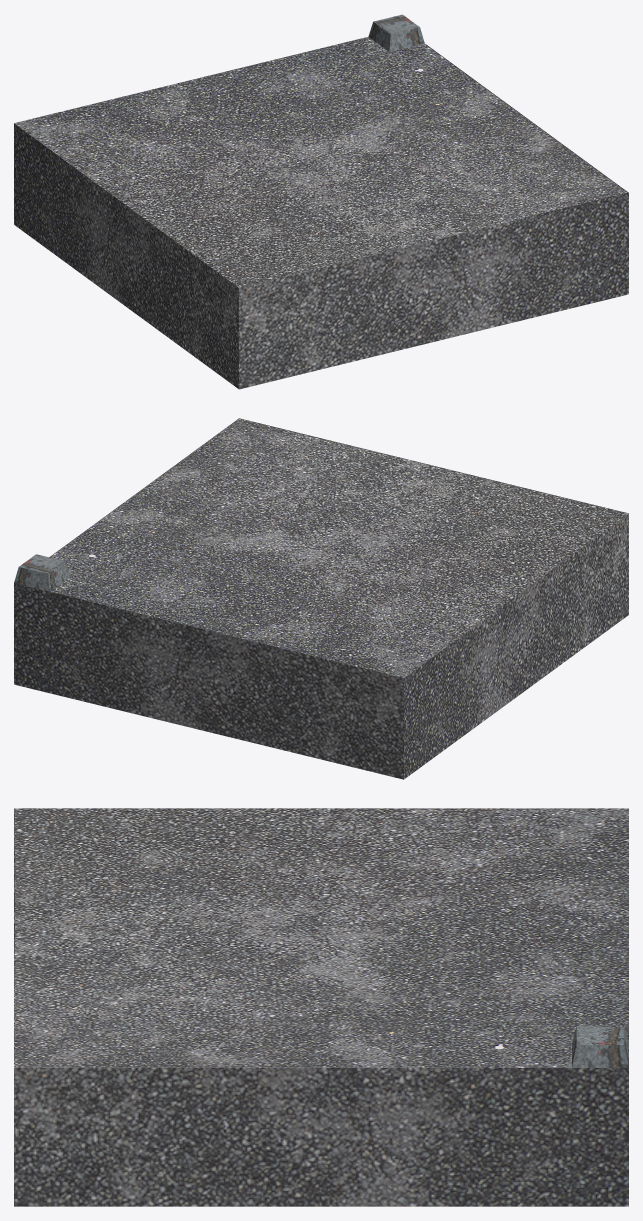
The model's file is sidewalk_corner.fbx.
The picture shows the model from 3 angles, top to bottom: view 1: azimuth 30°, elevation 25°; view 2: azimuth 150°, elevation 25°; view 3: azimuth 270°, elevation 25°; orthographic projection. The views are drawn at different scales.
Parts seen in each view (by area): view 1: trottoir_corner.002; view 2: trottoir_corner.002; view 3: trottoir_corner.002.
Part boxes in pixels (x1,y1,x2,y2): trottoir_corner.002: (14,14,628,389); trottoir_corner.002: (14,418,628,779); trottoir_corner.002: (14,808,628,1206).
Bounding box in the file's own units: 10.59 × 3.04 × 10.59.
1 material, 1 textured.
